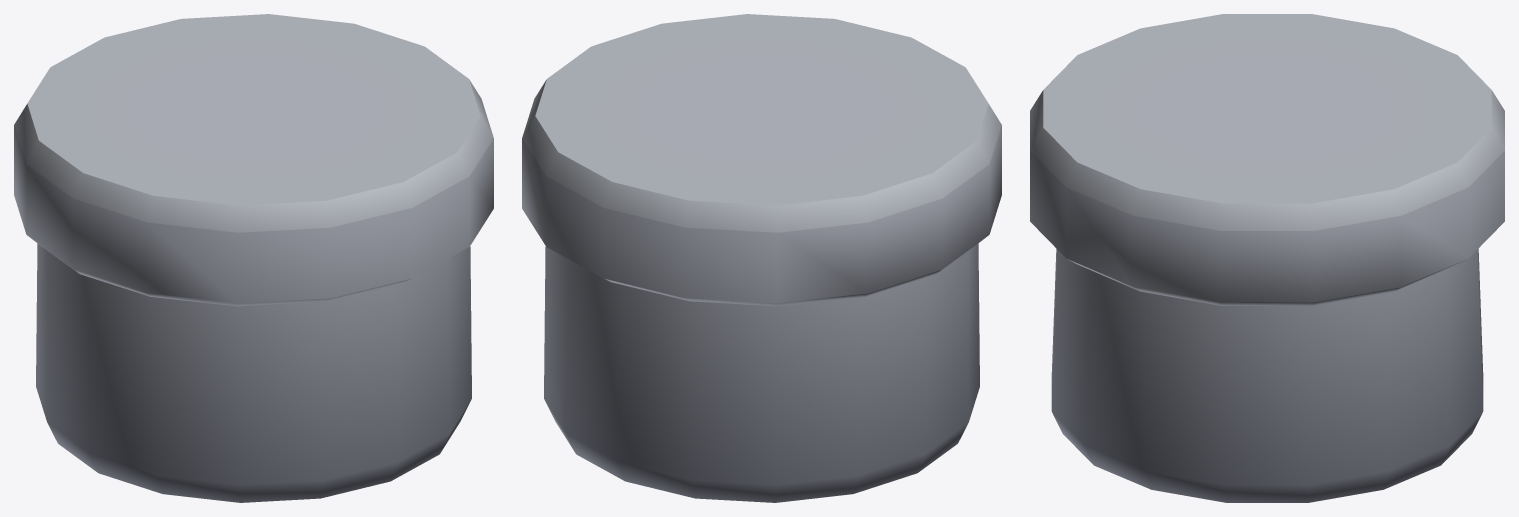
File: tin-b-grey.glb
3 renders of one model, left to right at view 1: azimuth 30°, elevation 25°; view 2: azimuth 150°, elevation 25°; view 3: azimuth 270°, elevation 25°, orthographic.
Parts seen in each view (by area): view 1: tin_B_grey; view 2: tin_B_grey; view 3: tin_B_grey.
Boxes of the visible parts, left/top/right/bottom form: tin_B_grey: left=14, top=14, right=493, bottom=502; tin_B_grey: left=522, top=14, right=1001, bottom=502; tin_B_grey: left=1030, top=14, right=1504, bottom=502.
Bounding box in the file's own units: 0.4 × 0.2951 × 0.4.
1 material, 1 textured.
